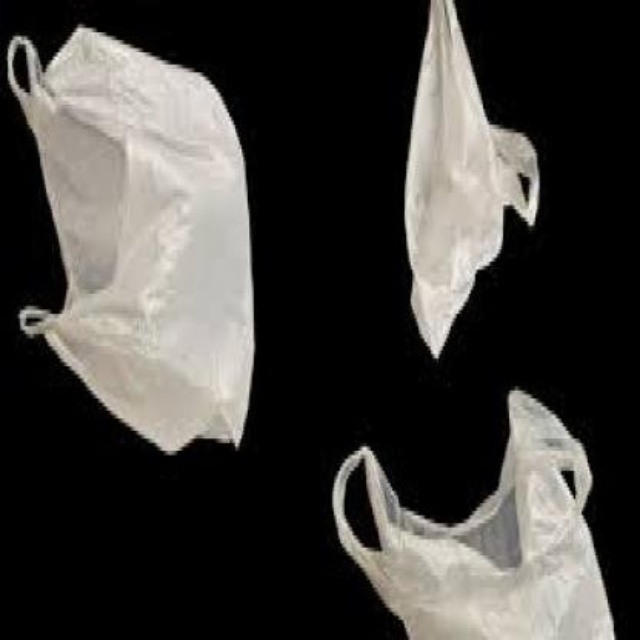trash: (8, 28, 252, 451), (332, 389, 612, 638)
